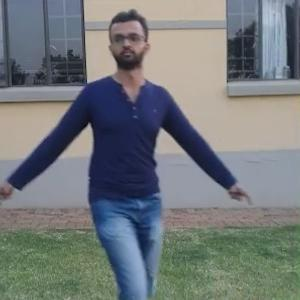land: (17, 9, 278, 298)
